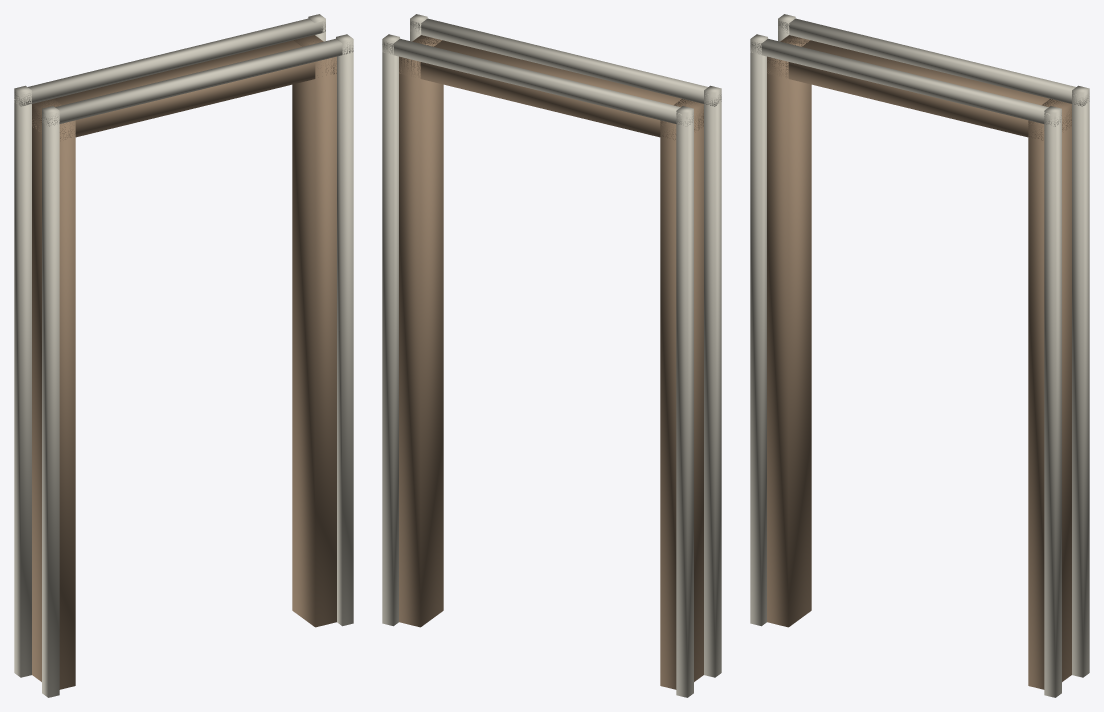
File: doorway_painted_trim_w96_h210_d16.glb
The picture shows the model from 3 angles, left to right: view 1: azimuth 30°, elevation 25°; view 2: azimuth 150°, elevation 25°; view 3: azimuth 330°, elevation 25°; orthographic projection.
Parts seen in each view (by area): view 1: world; view 2: world; view 3: world.
Boxes of the visible parts, x1=… form: world: x1=14, y1=14, x2=353, y2=697; world: x1=382, y1=14, x2=721, y2=697; world: x1=750, y1=14, x2=1089, y2=697.
Bounding box in the file's own units: 1.22 × 2.24 × 0.2365.
